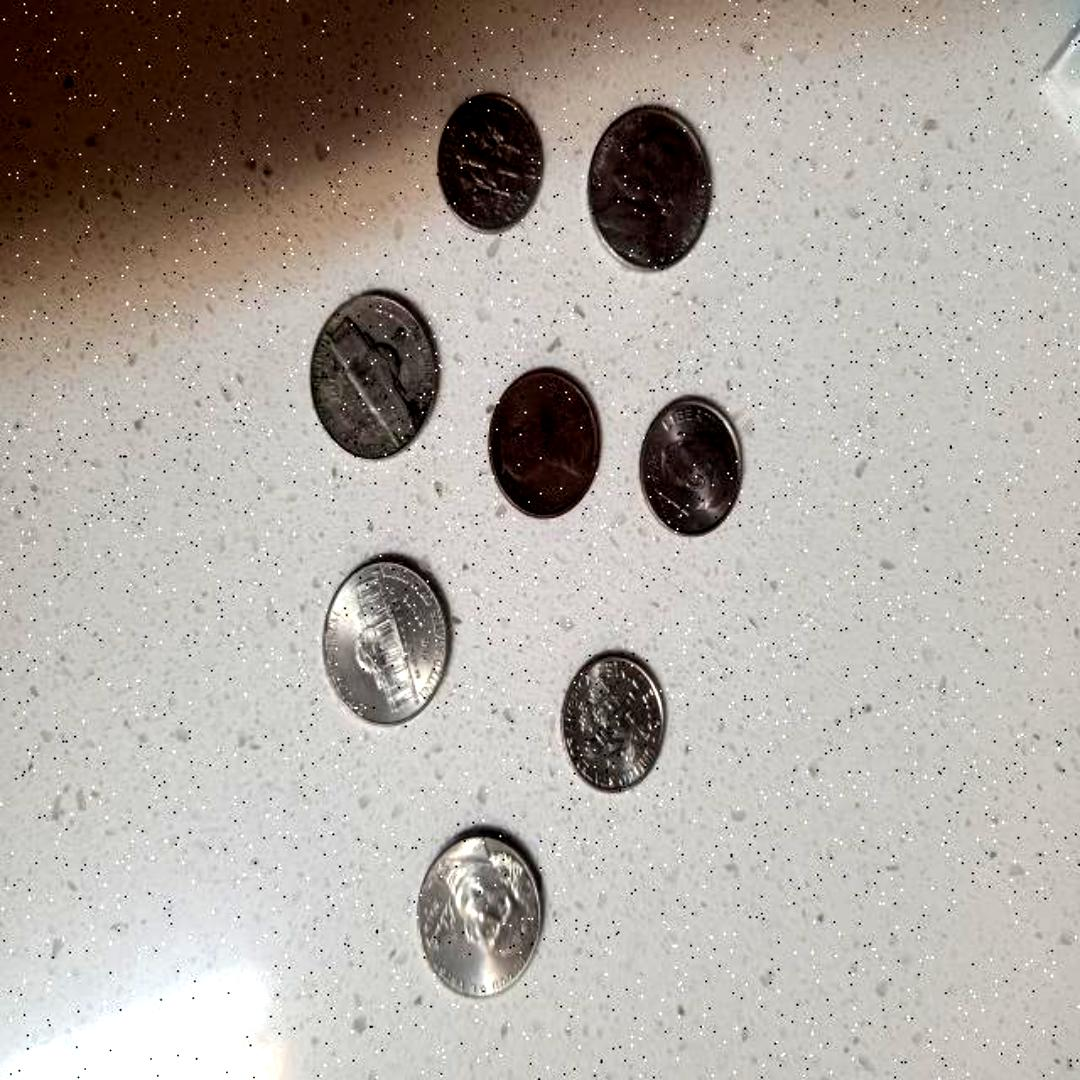Dime: (436, 90, 550, 242), (632, 390, 741, 544), (560, 648, 668, 796)
Nickel: (414, 816, 548, 1006), (320, 552, 452, 736), (308, 283, 440, 461), (584, 97, 714, 275)
Penny: (486, 367, 602, 520)
